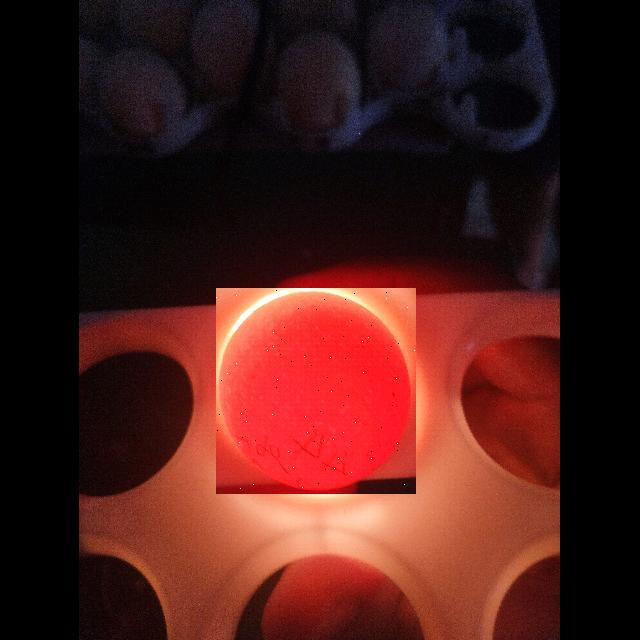Infertile: (216, 288, 416, 494)
